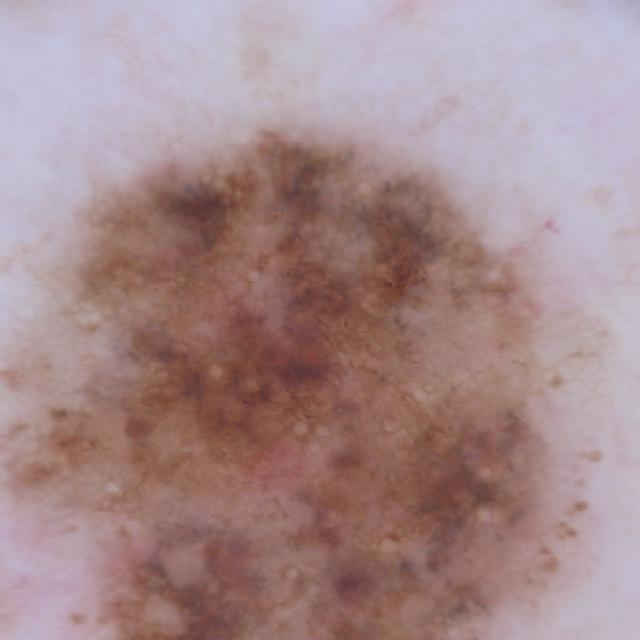Melanoma: (0, 121, 640, 640)
